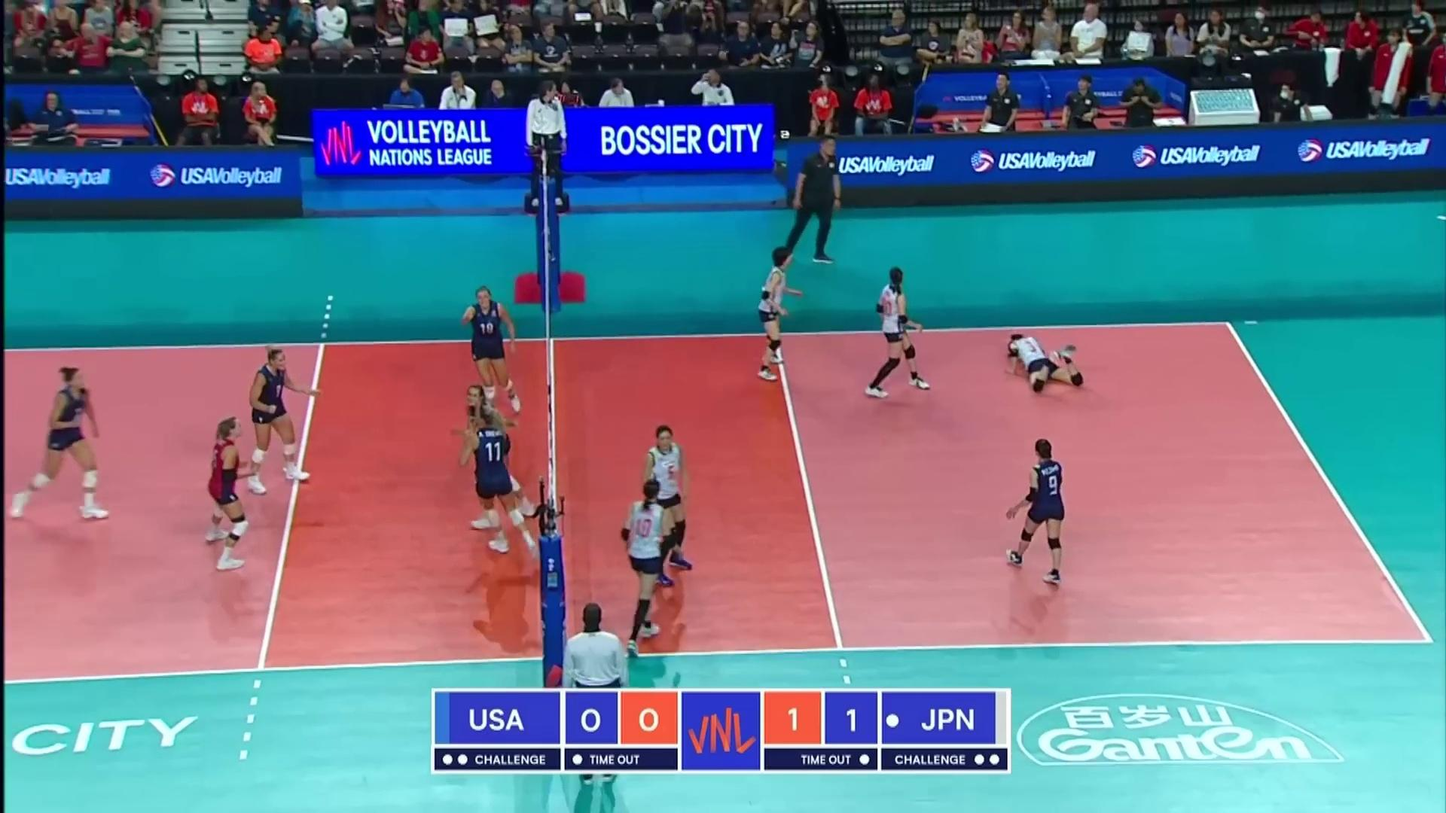player: (13, 368, 109, 523), (245, 351, 321, 490), (463, 386, 533, 530), (469, 414, 535, 558), (621, 478, 674, 656), (1005, 438, 1067, 585), (628, 426, 689, 572), (459, 286, 520, 417), (864, 269, 927, 394), (202, 419, 253, 570), (759, 246, 800, 381), (1001, 331, 1087, 395)
refree: (565, 604, 626, 788), (524, 77, 567, 205)
